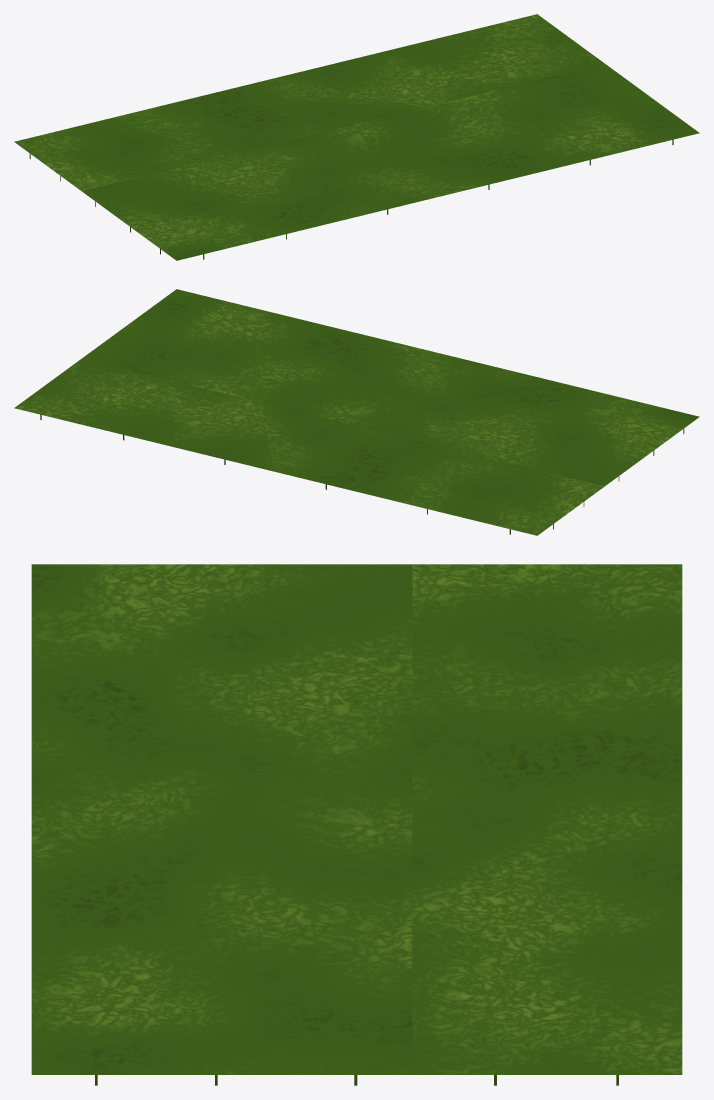
File: buildig.004_moss_0.001_lev3.glb
3 views of the same model, one above another, from view 1: azimuth 30°, elevation 25°; view 2: azimuth 150°, elevation 25°; view 3: azimuth 270°, elevation 25° (orthographic). The views are drawn at different scales.
Visible parts, largest first — view 1: buildig.004_moss_0.001_lev3; view 2: buildig.004_moss_0.001_lev3; view 3: buildig.004_moss_0.001_lev3.
Part boxes in pixels (bbox=[...]): buildig.004_moss_0.001_lev3: bbox=[14, 14, 699, 260]; buildig.004_moss_0.001_lev3: bbox=[14, 289, 699, 535]; buildig.004_moss_0.001_lev3: bbox=[31, 564, 682, 1085].
Size of the model in its own units: 5.1 by 0.05 by 2.75.
1 material, 1 textured.
